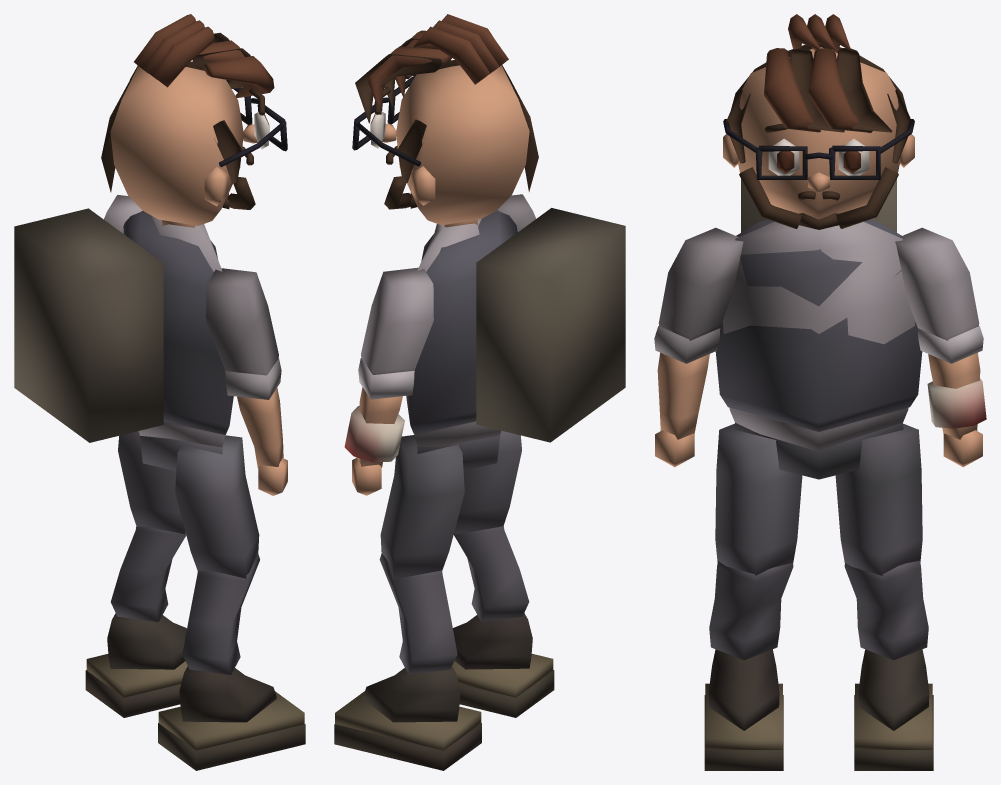
The model's file is npc.survivor-group.aftermath.sam.lod1.glb.
3 renders of one model, left to right at view 1: azimuth 30°, elevation 25°; view 2: azimuth 150°, elevation 25°; view 3: azimuth 270°, elevation 25°, orthographic. The views are drawn at different scales.
Visible parts, largest first — view 1: torso, head, footR, legR, footL, armR, shinR, shinL, legL, foreArmR, hip, handR (+1 smaller); view 2: torso, head, footL, legL, footR, armL, shinL, foreArmL, shinR, legR, hip, handL (+1 smaller); view 3: torso, head, legR, legL, footL, footR, armR, armL, shinL, shinR, foreArmL, foreArmR (+3 smaller).
Boxes of the visible parts, <box> form: torso: <box>14,208,233,447</box>; head: <box>101,14,287,227</box>; footR: <box>158,666,305,770</box>; legR: <box>175,435,259,578</box>; footL: <box>85,613,187,717</box>; armR: <box>206,268,278,375</box>; shinR: <box>182,554,259,674</box>; shinL: <box>111,526,186,621</box>; legL: <box>118,431,185,534</box>; foreArmR: <box>225,358,283,467</box>; hip: <box>140,436,222,470</box>; handR: <box>258,458,287,495</box>; torso: <box>406,208,625,446</box>; head: <box>352,14,538,227</box>; footL: <box>334,666,481,770</box>; legL: <box>380,435,464,578</box>; footR: <box>452,613,554,717</box>; armL: <box>361,267,433,374</box>; shinL: <box>379,553,457,674</box>; foreArmL: <box>344,358,414,467</box>; shinR: <box>453,526,529,621</box>; legR: <box>454,431,521,534</box>; hip: <box>417,435,499,470</box>; handL: <box>352,458,381,495</box>; torso: <box>715,179,922,451</box>; head: <box>723,14,914,229</box>; legR: <box>715,423,802,575</box>; legL: <box>835,424,922,575</box>; footL: <box>854,649,933,770</box>; footR: <box>704,649,783,770</box>; armR: <box>658,227,743,340</box>; armL: <box>895,227,979,340</box>; shinL: <box>844,561,928,660</box>; shinR: <box>709,561,793,660</box>; foreArmL: <box>917,326,986,439</box>; foreArmR: <box>654,326,720,439</box>.
Size of the model in its own units: 0.5657 by 1.78 by 0.7435.
